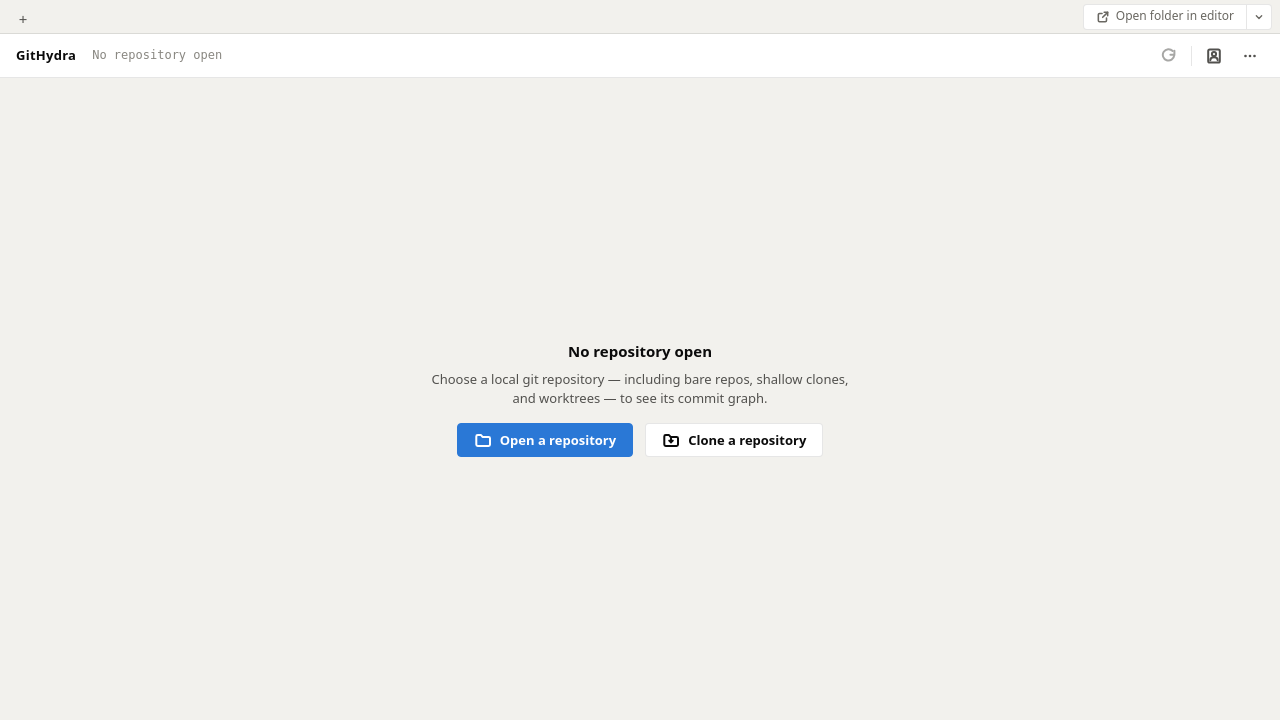
Test: App › Find Commits overlay (specs/find-commits-overlay.md) › FR-263 revision: clicking outside the overlay hides it but leaves the active filter applied — clicking a filtered result is an ordinary follow-up action, not a
The width and height of the screenshot is (1280, 720).
Step 1. Click the button "Open a repository" → (545, 440), box [457,423,633,457]
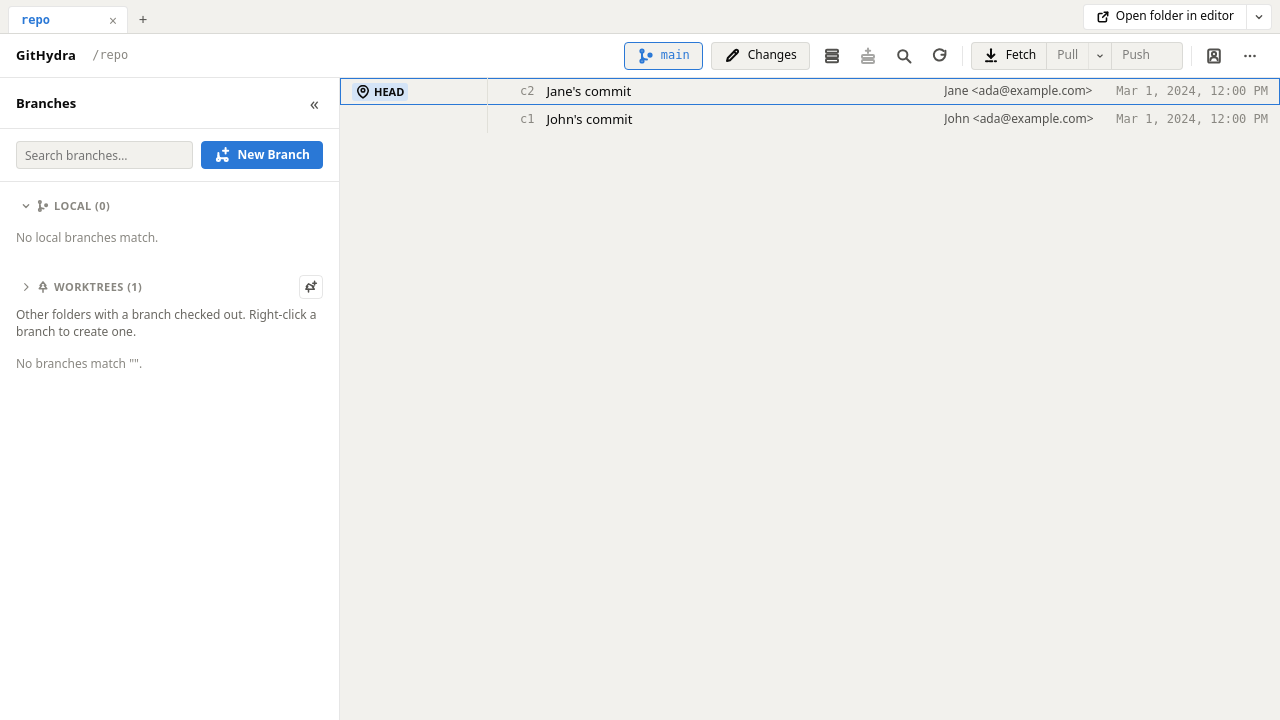
Expected: the text "Jane's commit" is shown, [546,82,631,100]
Step 2. Click the button named "find commits" → (904, 56), box [890,42,918,70]
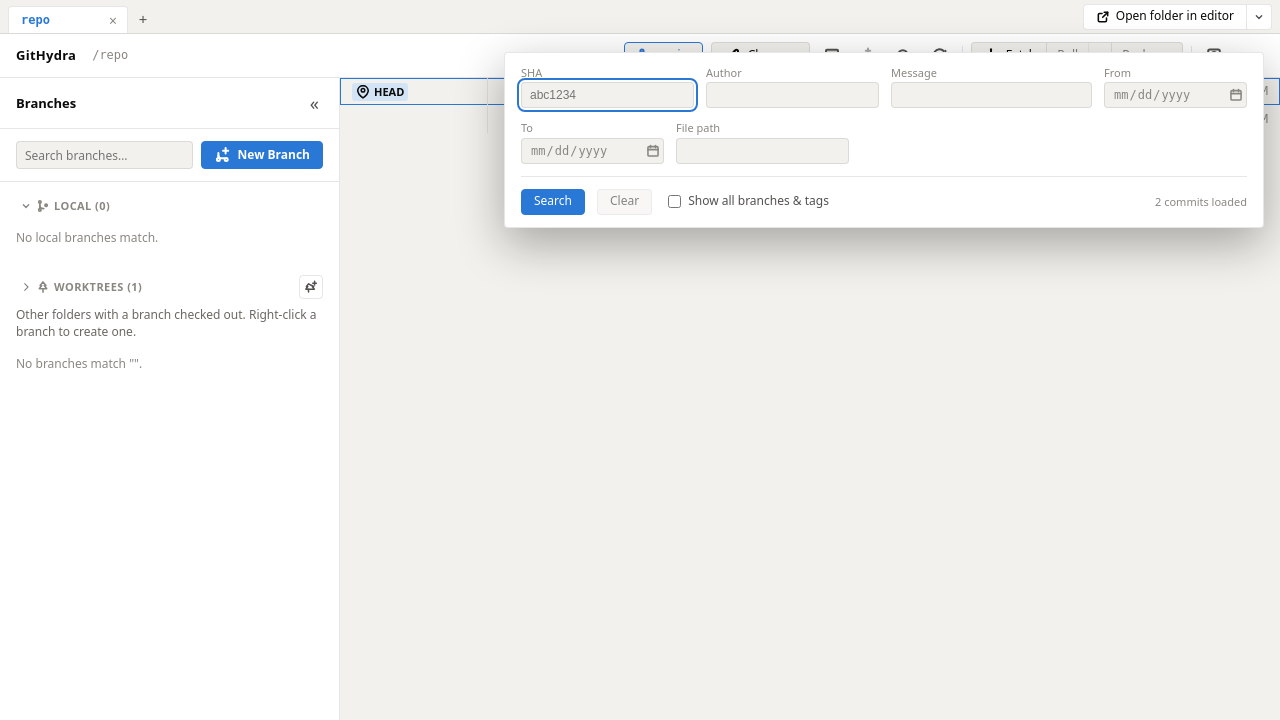
Step 3. Type "Jane" into the field labelled "Author" → (792, 95), box [706,82,879,108]
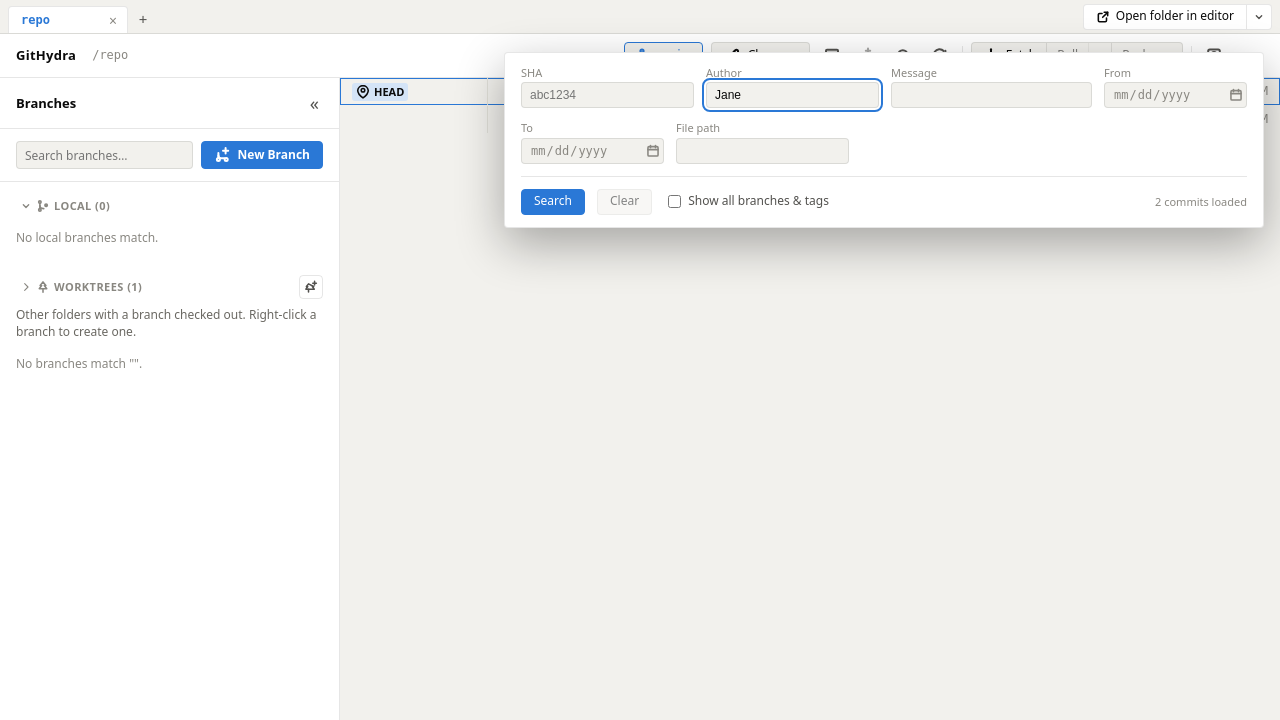
Step 4. Click the button "Search" → (553, 202), box [521,189,585,215]
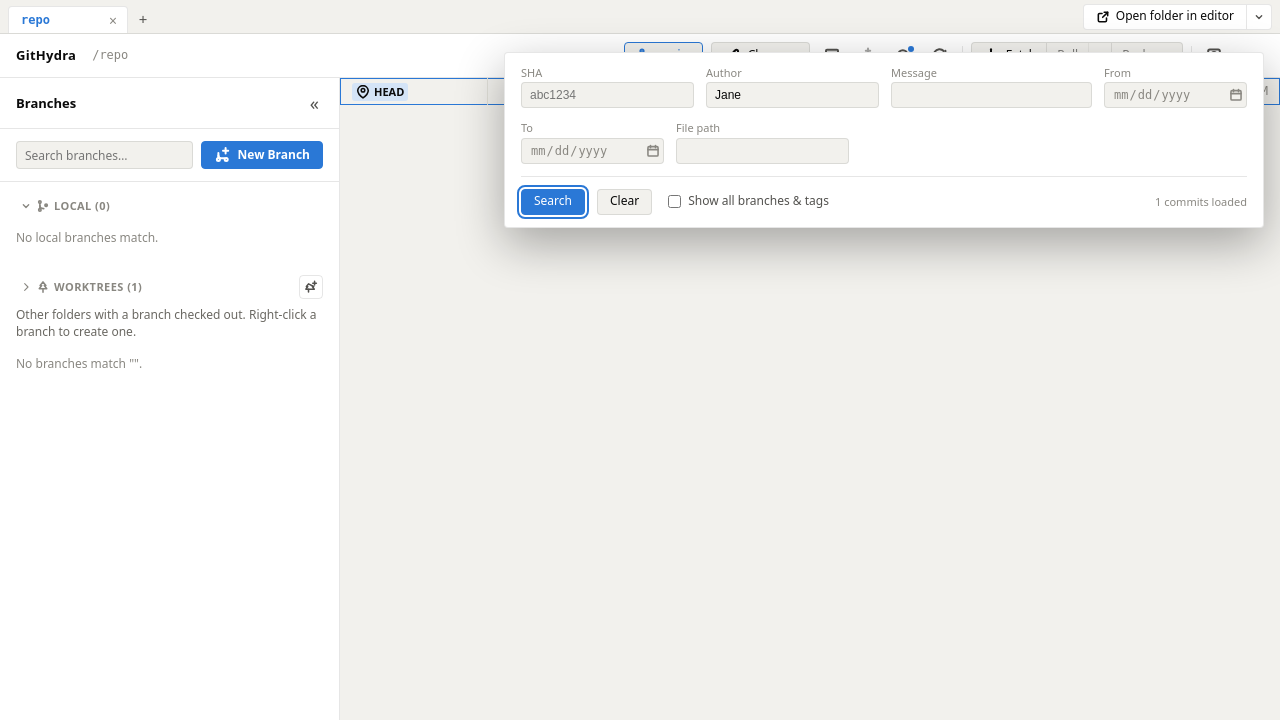
Expected: the option "John's commit" is gone
Step 5. Click the text "GitHydra" → (46, 56), box [16,46,76,65]
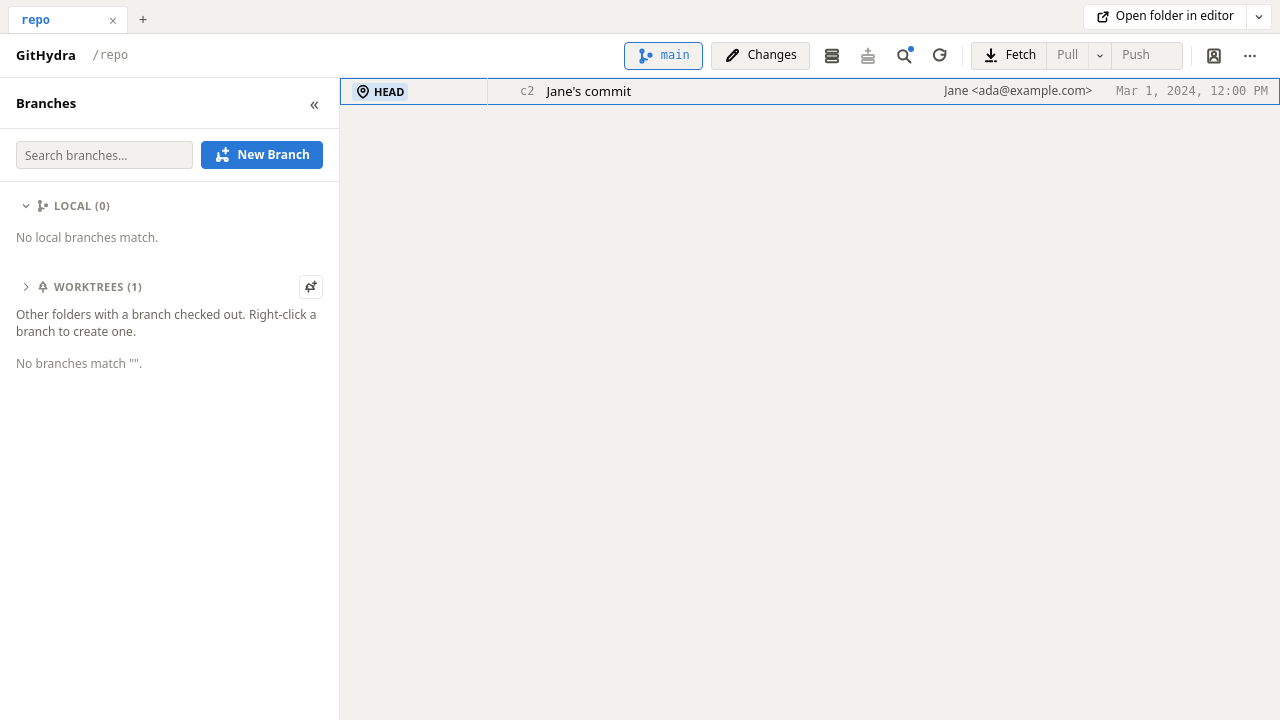
Expected: the element "find commits" is not shown
Expected: the text "Jane's commit" is shown, [546,82,631,100]
Expected: the icon with class "gh-toolbar__icon-button-indicator" is shown, [908,46,914,52]
// Re-opening shows the still-applied filter, not a blank form.
Step 6. Click the button named "find commits" → (904, 56), box [890,42,918,70]
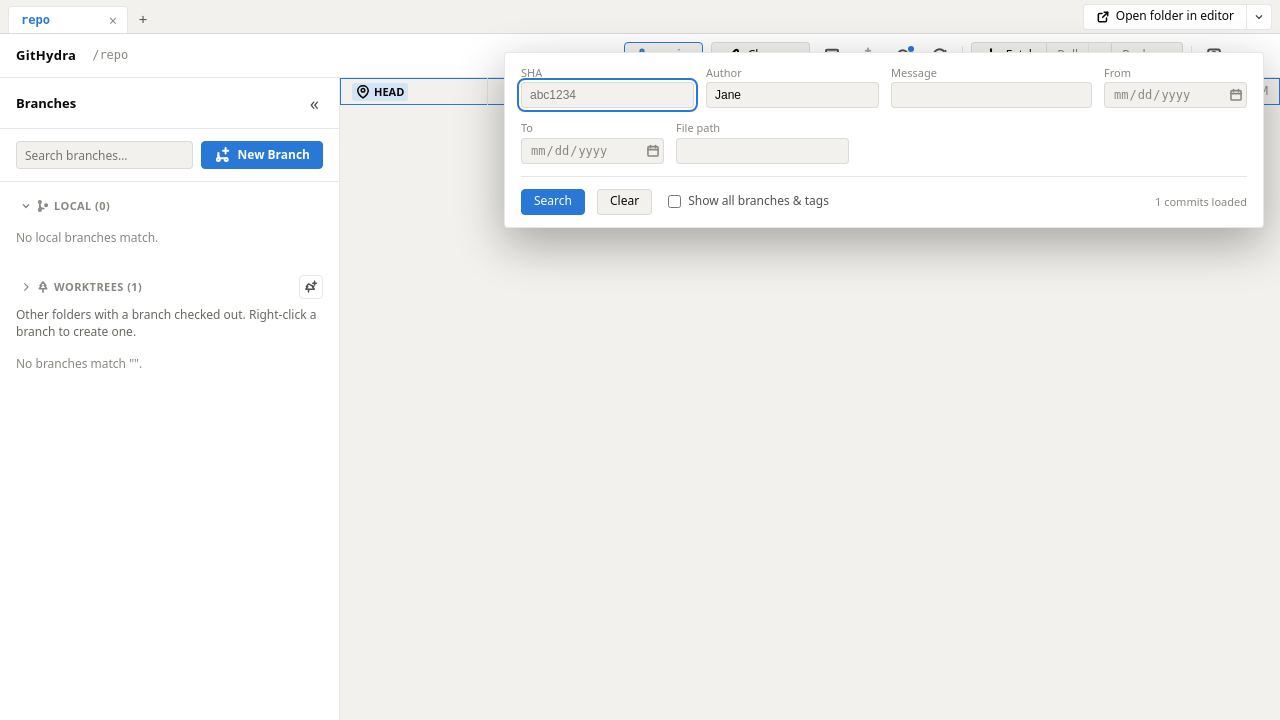
Expected: the field labelled "Author" holds "Jane", [706,82,879,108]
